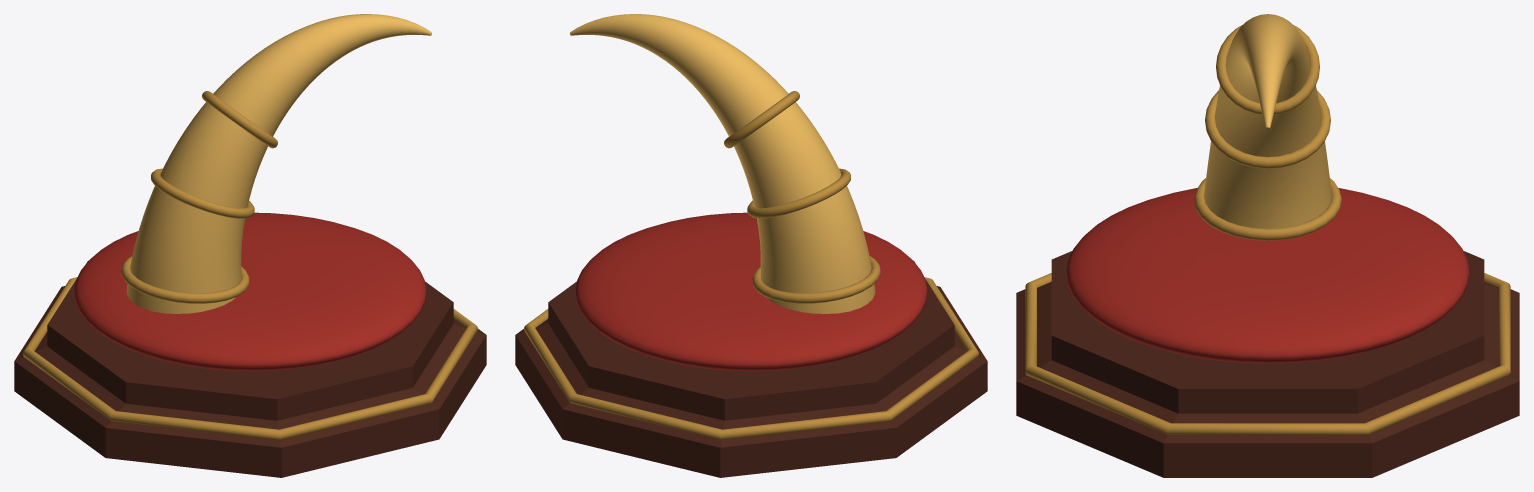
File: haechi-horn.glb
3 renders of one model, left to right at view 1: azimuth 30°, elevation 25°; view 2: azimuth 150°, elevation 25°; view 3: azimuth 270°, elevation 25°, orthographic. The views are drawn at different scales.
Parts seen in each view (by area): view 1: haechi-horn; view 2: haechi-horn; view 3: haechi-horn.
Boxes of the visible parts, x1,y1,x2,y2 form: haechi-horn: (14,14,486,477); haechi-horn: (515,14,987,477); haechi-horn: (1016,14,1519,477).
Size of the model in its own units: 0.9239 by 0.7825 by 0.9239.
